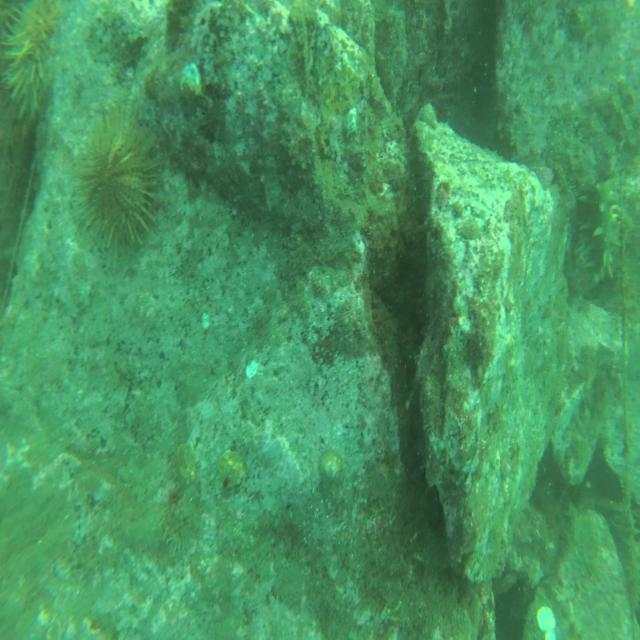echinus: (73, 100, 169, 260), (1, 0, 61, 123)
holothurian: (580, 177, 624, 290)
